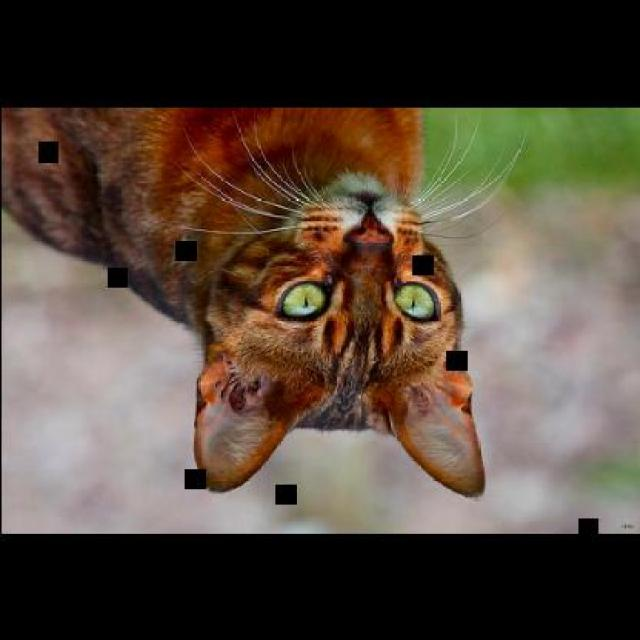unauthorized: (0, 106, 528, 499)
